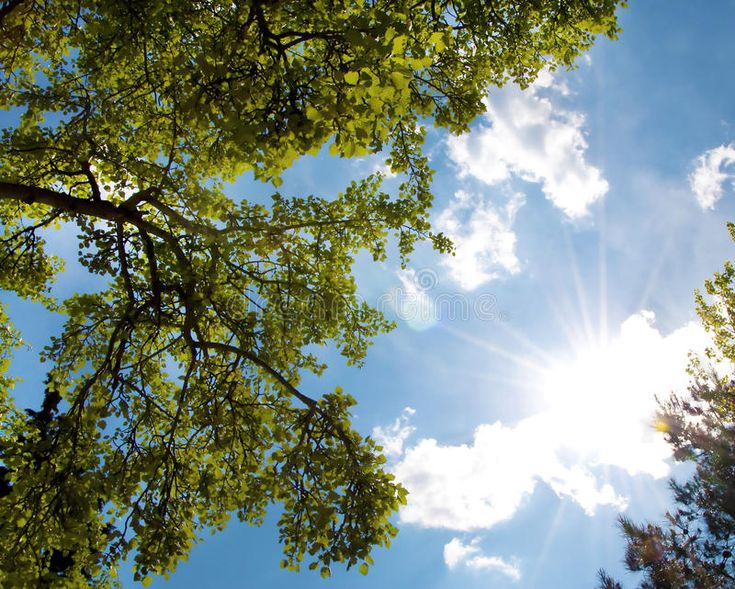sun: (491, 299, 679, 471)
